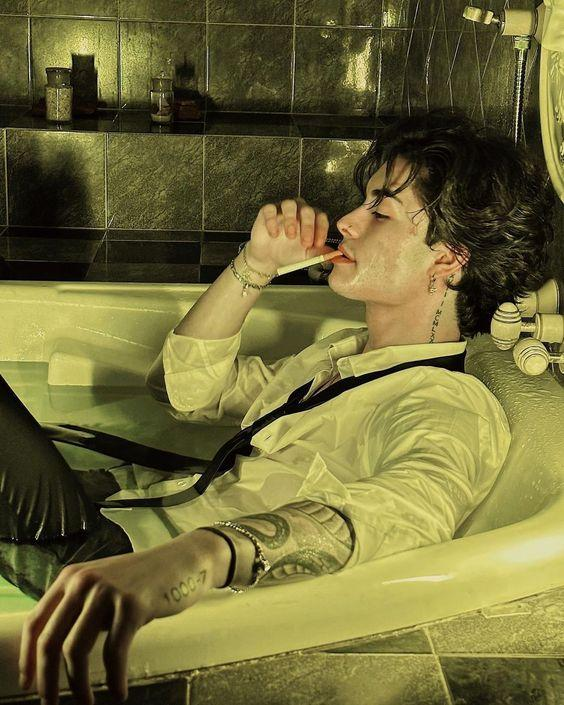cigarette: (277, 250, 344, 276)
